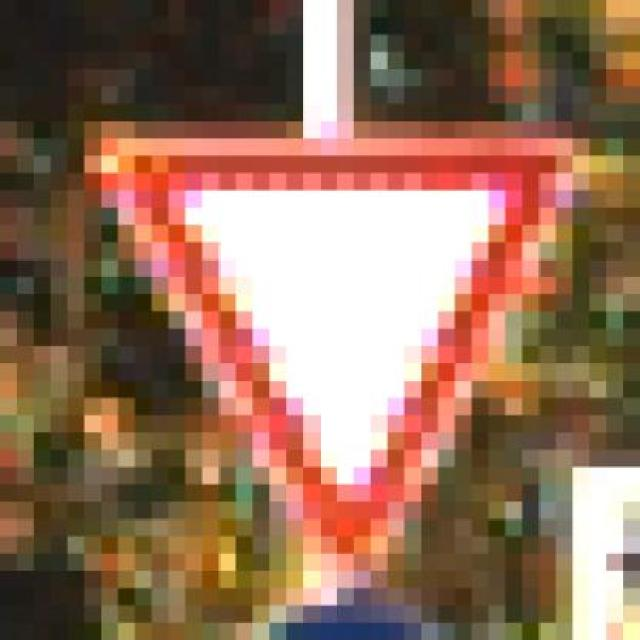Give Way: (84, 121, 590, 605)
